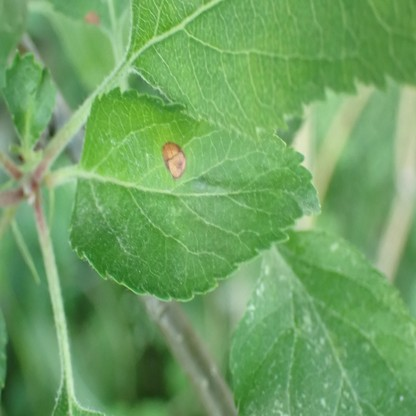frogeye_leaf_spot: (162, 141, 187, 179)
